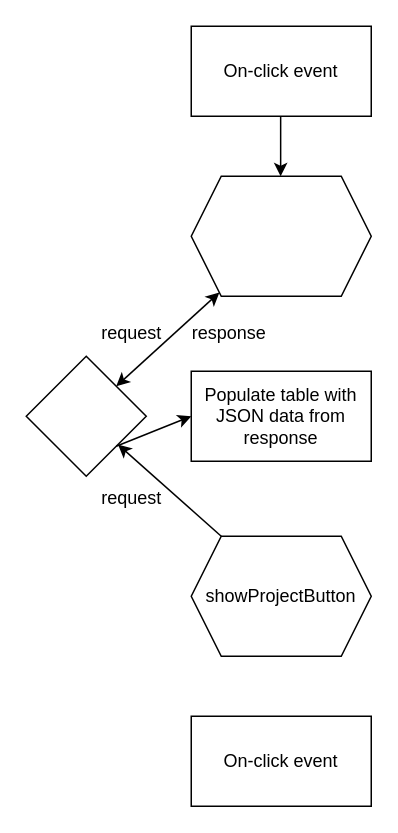
Image size: 398x833. Some labels were removed from this diagram. The box of each missing label's shape, as (x1, y1, x2, y2) in pixels:
createUserManager: (190, 175, 371, 296)
Server: (25, 355, 146, 476)
